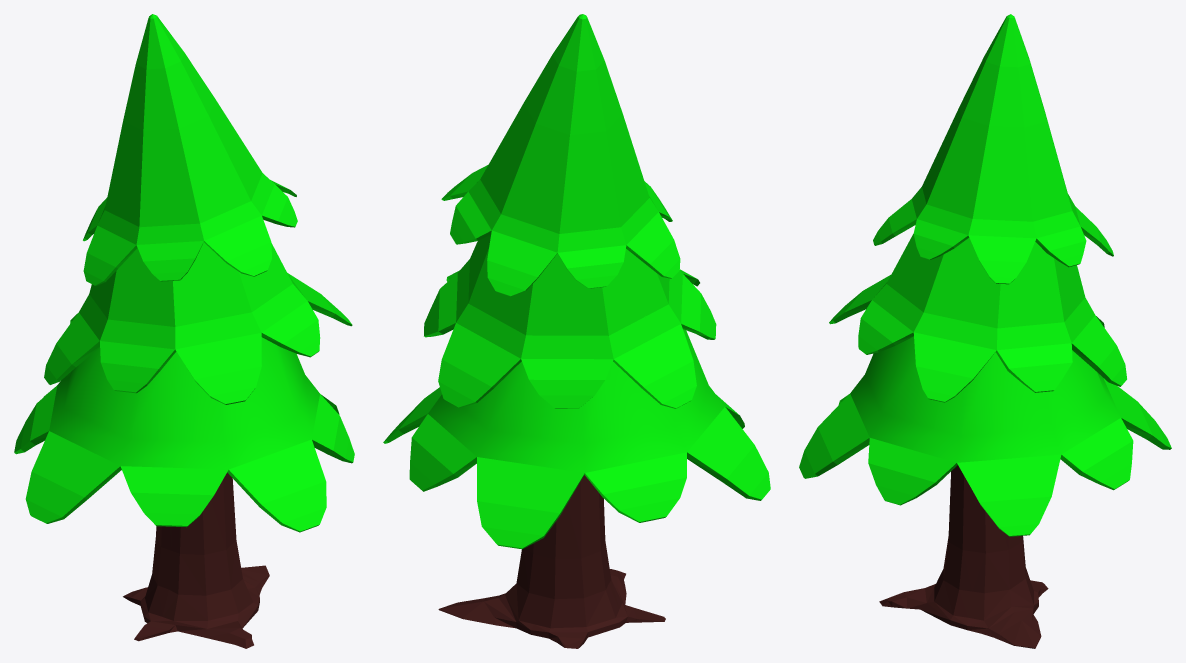
File: 3_tortMunt.FBX
3 renders of one model, left to right at view 1: azimuth 30°, elevation 25°; view 2: azimuth 150°, elevation 25°; view 3: azimuth 270°, elevation 25°, orthographic. The views are drawn at different scales.
Parts seen in each view (by area): view 1: 3.003; view 2: 3.003; view 3: 3.003.
Boxes of the visible parts, box(x1,y1,x2,y2) form: 3.003: box(14, 14, 354, 648); 3.003: box(383, 14, 770, 648); 3.003: box(799, 14, 1171, 648).
Size of the model in its own units: 1.33 by 2.26 by 1.33.
